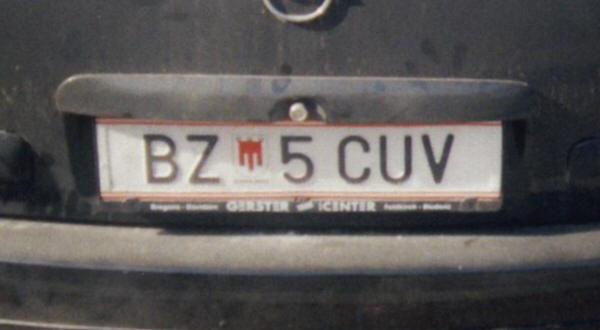license_plate: (95, 118, 505, 200)
